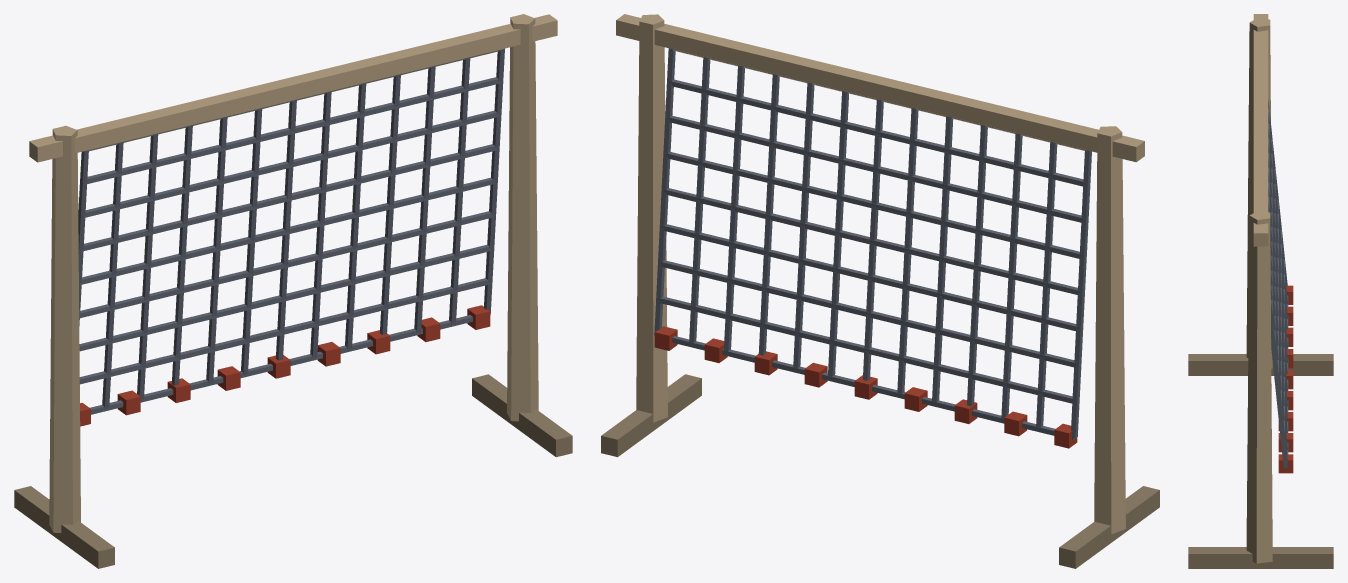
File: net_rack.glb
3 views of the same model, side by side, from view 1: azimuth 30°, elevation 25°; view 2: azimuth 150°, elevation 25°; view 3: azimuth 270°, elevation 25° (orthographic). The views are drawn at different scales.
Visible parts, largest first — view 1: slate_d10, driftwood_d10, driftwood_d30, coal_d10, driftwood_l20; view 2: slate_d10, driftwood_d10, driftwood_d30, coal_d10, driftwood_l20; view 3: driftwood_d10, driftwood_d30, slate_d10, coal_d10.
Boxes of the visible parts, bbox=[...] form: slate_d10: bbox=[78, 48, 504, 414]; driftwood_d10: bbox=[29, 14, 557, 532]; driftwood_d30: bbox=[14, 374, 572, 568]; coal_d10: bbox=[80, 305, 490, 426]; driftwood_l20: bbox=[87, 49, 501, 151]; slate_d10: bbox=[654, 48, 1091, 440]; driftwood_d10: bbox=[616, 14, 1144, 534]; driftwood_d30: bbox=[601, 374, 1159, 568]; coal_d10: bbox=[654, 326, 1077, 448]; driftwood_l20: bbox=[673, 49, 1084, 150]; driftwood_d10: bbox=[1246, 14, 1272, 563]; driftwood_d30: bbox=[1188, 354, 1333, 568]; slate_d10: bbox=[1268, 99, 1288, 468]; coal_d10: bbox=[1278, 285, 1293, 473].
Bounding box in the file's own units: 2.5 × 1.86 × 0.7.
